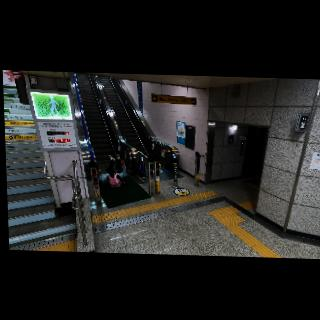anomaly: (94, 152, 129, 191)
